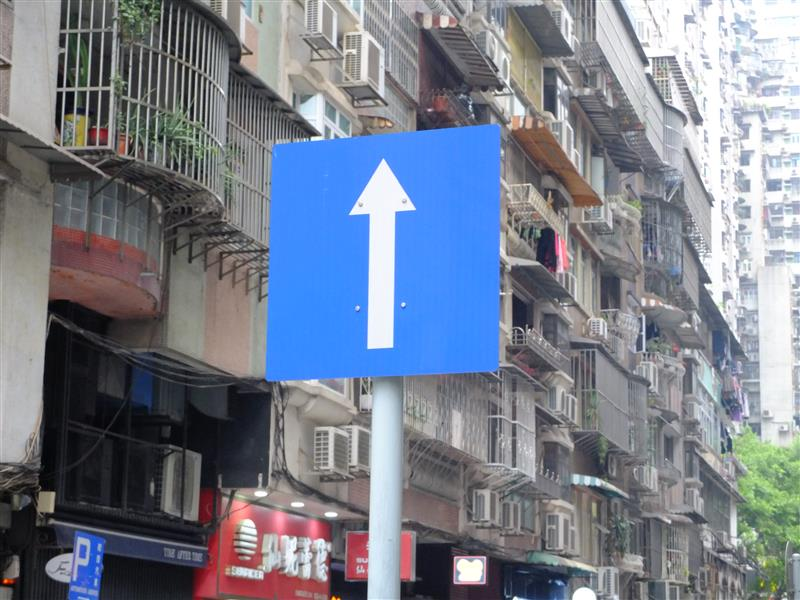oneway: (248, 108, 529, 398)
